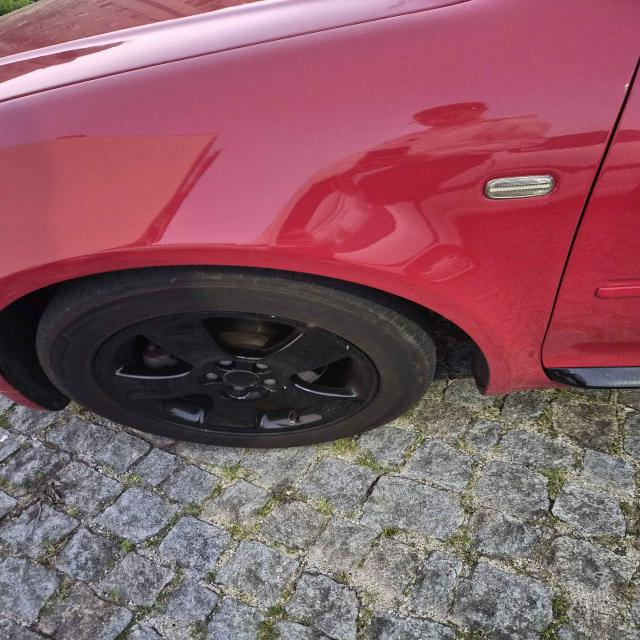jante: (94, 314, 383, 434)
parafuso: (218, 358, 234, 368), (254, 362, 270, 371), (206, 371, 220, 381), (230, 384, 247, 392), (261, 378, 277, 386)
roda: (34, 268, 440, 449)
